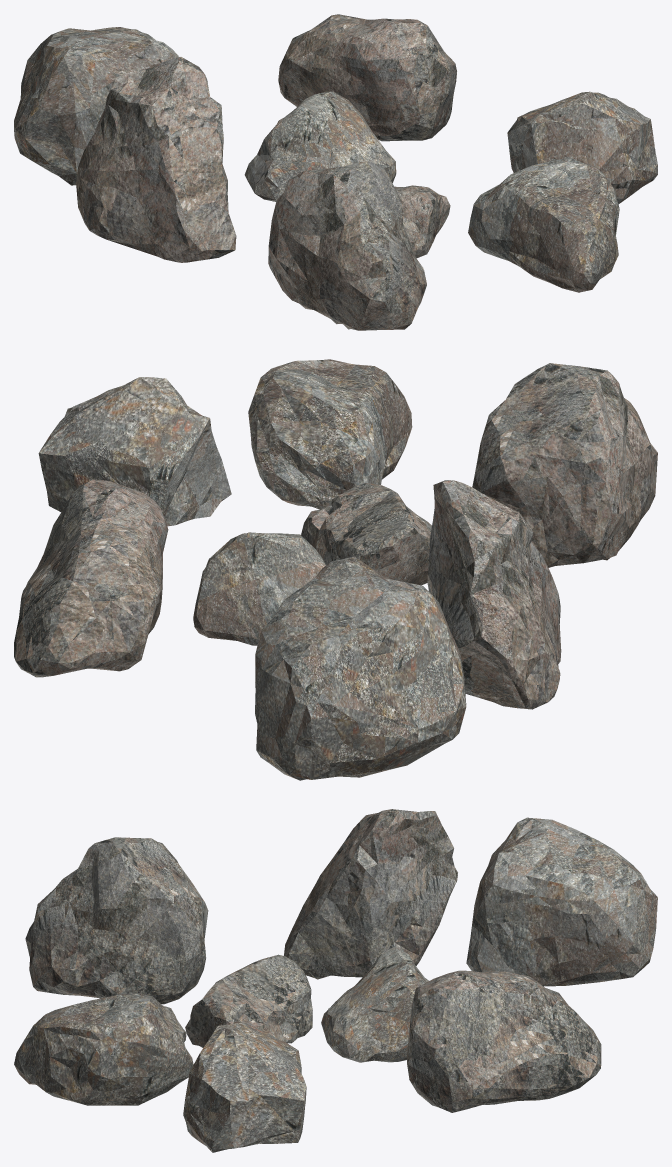
The model's file is Rocks.fbx.
3 views of the same model, one above another, from view 1: azimuth 30°, elevation 25°; view 2: azimuth 150°, elevation 25°; view 3: azimuth 270°, elevation 25° (orthographic). The views are drawn at different scales.
Visible parts, largest first — view 1: 3DGeom~2, 3DGeom~1, 3DGeom~6, 3DGeom~5, 3DGeom~3, 3DGeom~4, 3DGeom~7, 3DGeom~8; view 2: 3DGeom~3, 3DGeom~1, 3DGeom~6, 3DGeom~2, 3DGeom~5, 3DGeom~4, 3DGeom~7, 3DGeom~8; view 3: 3DGeom~3, 3DGeom~1, 3DGeom~6, 3DGeom~2, 3DGeom~5, 3DGeom~4, 3DGeom~7, 3DGeom~8.
Part boxes in pixels (box(x1,y1,x2,y2)): 3DGeom~2: box(76, 57, 236, 262); 3DGeom~1: box(268, 160, 426, 330); 3DGeom~6: box(278, 14, 456, 141); 3DGeom~5: box(468, 157, 619, 292); 3DGeom~3: box(14, 27, 178, 185); 3DGeom~4: box(507, 91, 657, 203); 3DGeom~7: box(244, 91, 396, 201); 3DGeom~8: box(394, 185, 450, 258); 3DGeom~3: box(255, 556, 466, 780); 3DGeom~1: box(472, 363, 657, 567); 3DGeom~6: box(14, 479, 168, 677); 3DGeom~2: box(427, 480, 561, 709); 3DGeom~5: box(248, 359, 412, 509); 3DGeom~4: box(38, 377, 231, 526); 3DGeom~7: box(193, 532, 326, 645); 3DGeom~8: box(301, 482, 431, 585); 3DGeom~3: box(466, 817, 657, 986); 3DGeom~1: box(25, 837, 208, 1004); 3DGeom~6: box(407, 970, 601, 1112); 3DGeom~2: box(284, 809, 457, 979); 3DGeom~5: box(14, 993, 193, 1105); 3DGeom~4: box(183, 1020, 306, 1152); 3DGeom~7: box(321, 946, 428, 1062); 3DGeom~8: box(185, 954, 312, 1047).
Size of the model in its own units: 3.45 by 3.95 by 1.13.
Materials: 2 (2 with a texture image).
